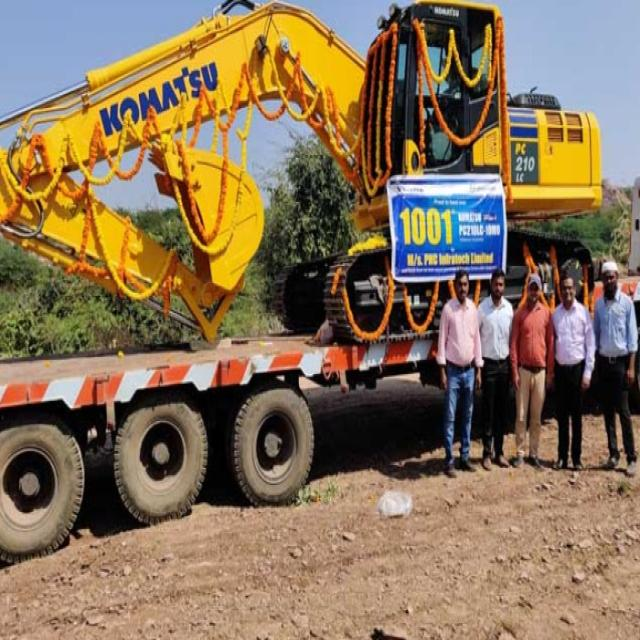excavator: (30, 12, 613, 308)
